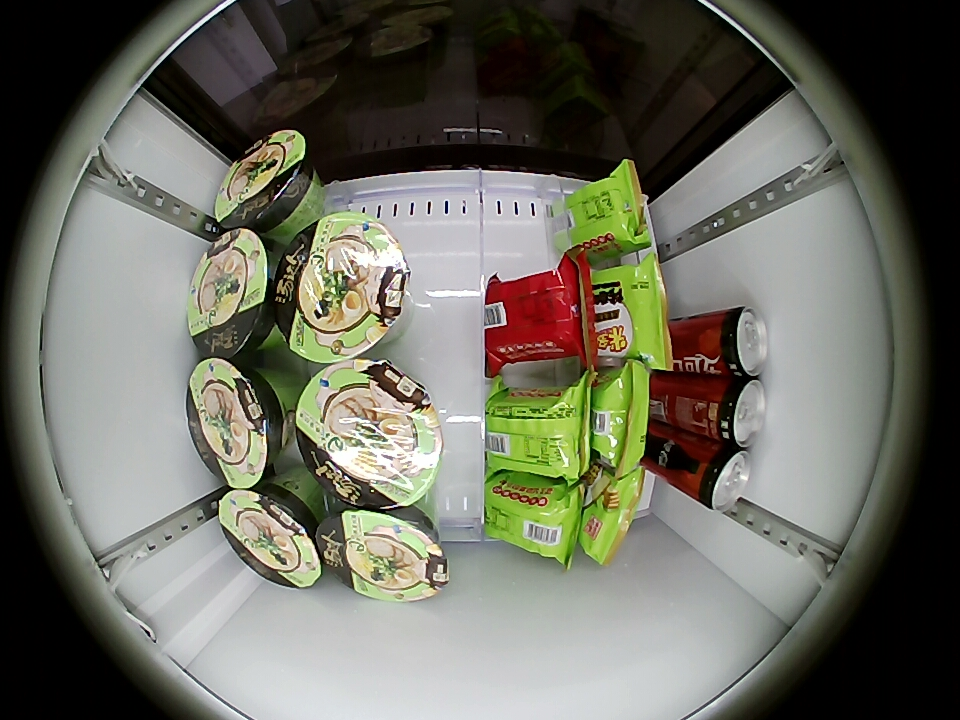kaomo_shaokao: (484, 271, 588, 365)
kaomo_xiangcon: (485, 387, 588, 478), (582, 263, 670, 364), (559, 166, 653, 259), (484, 473, 582, 560), (579, 464, 645, 562), (588, 364, 649, 470)
lingdukele: (705, 305, 768, 379), (686, 444, 752, 512), (703, 377, 766, 447)
tangdaren: (294, 360, 444, 509), (271, 211, 411, 363), (185, 358, 290, 489), (315, 506, 449, 602), (186, 228, 275, 359), (217, 483, 323, 590), (212, 129, 316, 233)
